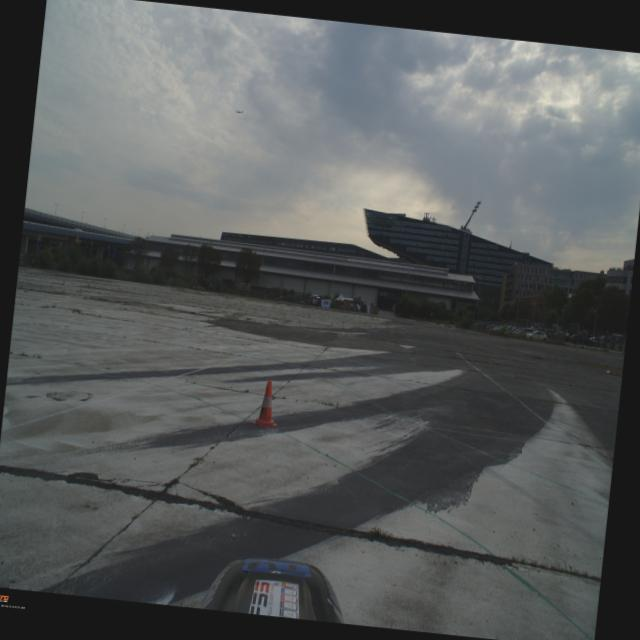orange_cone: (250, 379, 282, 428)
